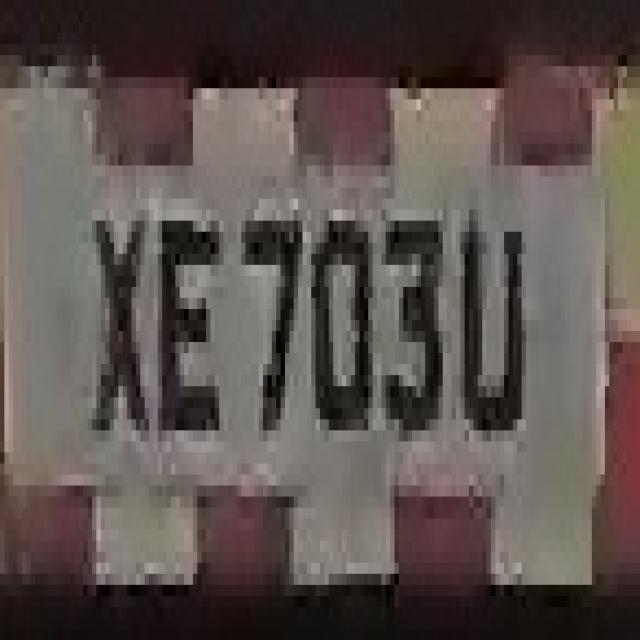0: (302, 176, 368, 464)
3: (372, 199, 442, 430)
7: (237, 154, 307, 442)
E: (162, 165, 237, 452)
U: (456, 166, 535, 442)
X: (83, 165, 149, 464)
